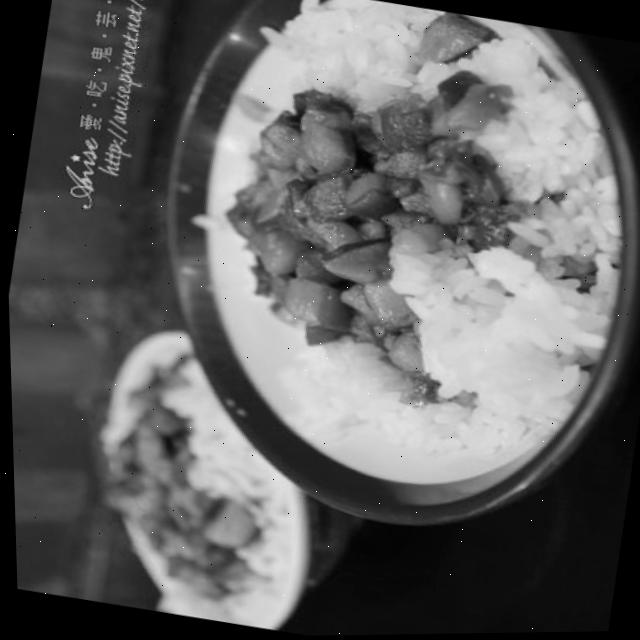猪肉菜式: (106, 0, 640, 525)
